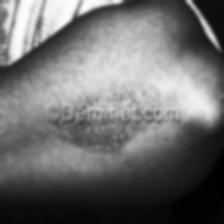Non-Cancerous Skin Condition: (60, 85, 160, 153)
